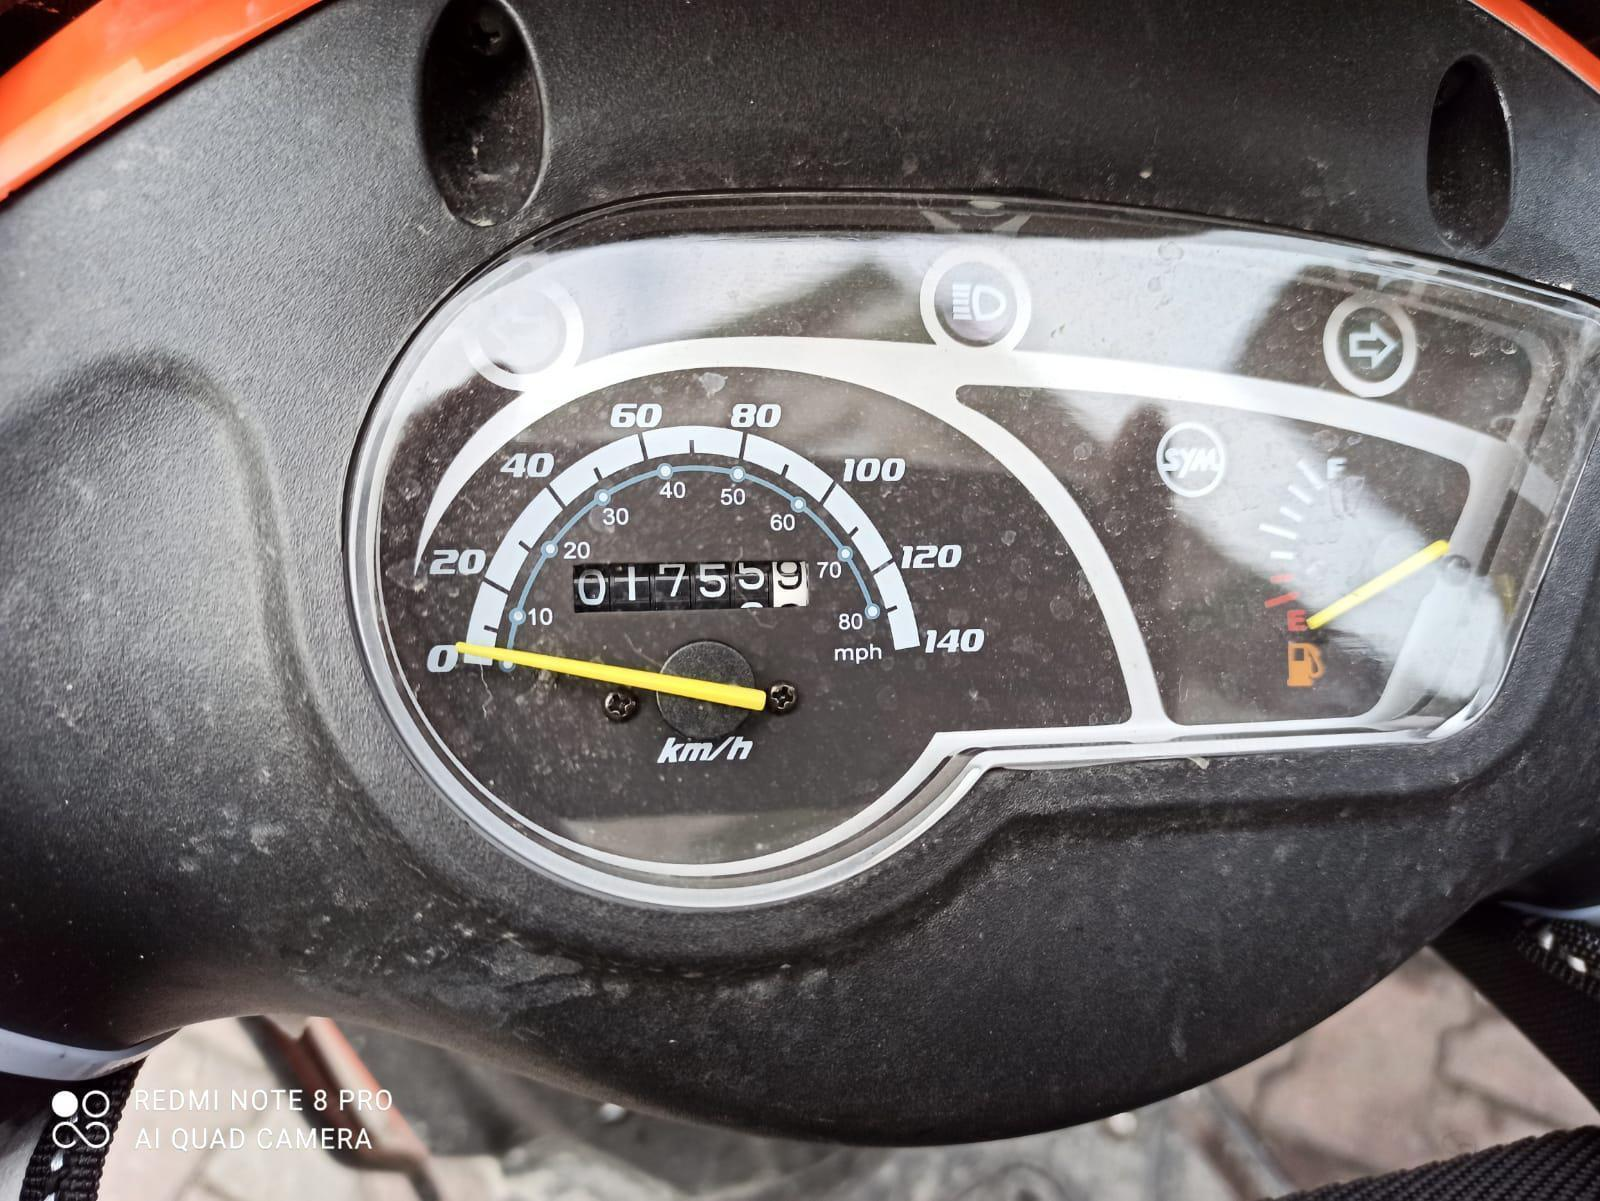0: (575, 566, 608, 607)
1: (620, 563, 640, 613)
5: (698, 561, 729, 598), (737, 558, 767, 595)
7: (656, 561, 686, 599)
9: (775, 558, 805, 597)
odometer: (565, 558, 816, 624)
